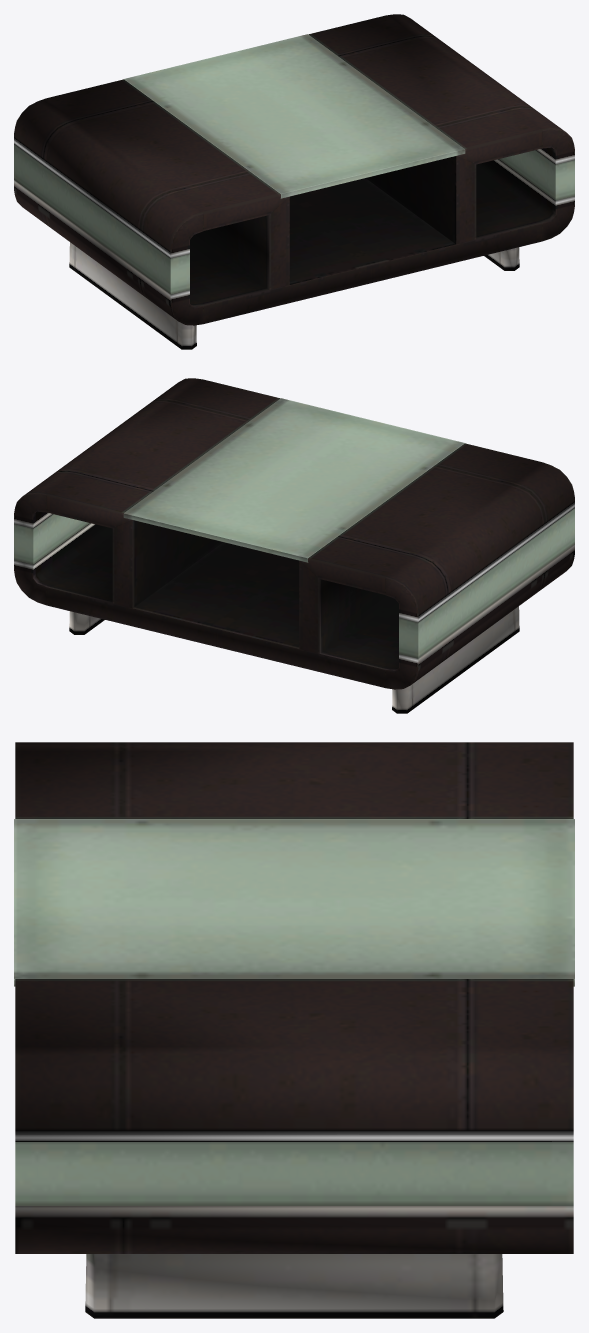
File: TableCoffee01.FBX
3 views of the same model, one above another, from view 1: azimuth 30°, elevation 25°; view 2: azimuth 150°, elevation 25°; view 3: azimuth 270°, elevation 25° (orthographic). The views are drawn at different scales.
Parts seen in each view (by area): view 1: TableCoffee01; view 2: TableCoffee01; view 3: TableCoffee01.
Boxes of the visible parts, x1,y1,x2,y2 form: TableCoffee01: [14, 14, 574, 349]; TableCoffee01: [14, 378, 574, 713]; TableCoffee01: [14, 742, 574, 1318].
Size of the model in its own units: 1.5 by 0.5431 by 1.01.
